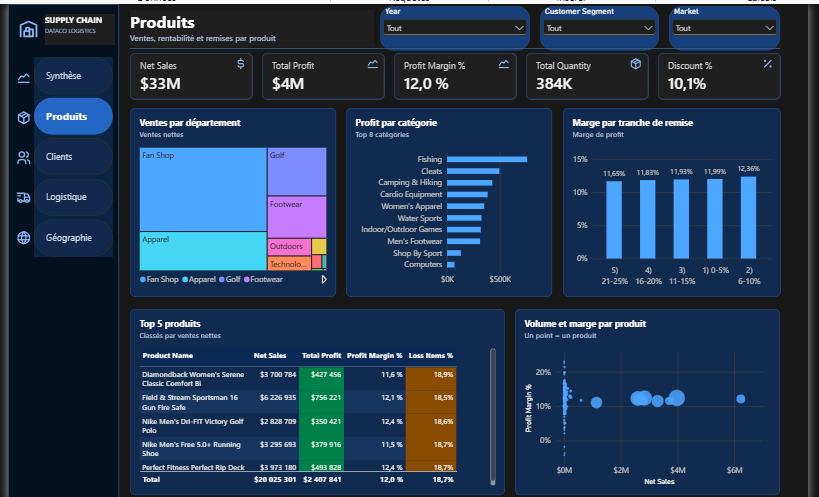

The page's visual inventory and layout, read from the dashboard file:
{"tool":"powerbi","page":{"name":"Produits","canvas":[1440,900],"ordinal":1},"visuals":[{"type":"shape","box":[0,0,200,900],"z":0},{"type":"clusteredBarChart","title":"Profit par catégorie","fields":{"Category":["Dim_Product.Category Name"],"Y":["Fact_OrderItems.Total Profit"]},"box":[609.2,188,371.2,340],"z":1000},{"type":"textbox","box":[66,18,126,56],"z":2000},{"type":"pageNavigator","box":[46,96,142,360],"z":3000},{"type":"image","box":[14,118,28,28],"z":4000},{"type":"image","box":[14,190,28,28],"z":4000},{"type":"image","box":[14,262,28,28],"z":4000},{"type":"image","box":[14,334,28,28],"z":4000},{"type":"image","box":[14,406,28,28],"z":4000},{"type":"textbox","box":[220,10,438.8,66],"z":5000},{"type":"slicer","title":"Marché","fields":{"Values":["Dim_Geography.Market"]},"box":[1189.8,4,200.2,80],"z":6000},{"type":"slicer","title":"Segment client","fields":{"Values":["Dim_Customer.Customer Segment"]},"box":[958,4,213.8,80],"z":7000},{"type":"slicer","title":"Année","fields":{"Values":["Dim_Date.Year"]},"box":[670,4,270,80],"z":8000},{"type":"cardVisual","fields":{"Data":["Fact_OrderItems.Total Quantity"]},"box":[932.1,88,220.5,84],"z":9000},{"type":"cardVisual","fields":{"Data":["Fact_OrderItems.Profit Margin %"]},"box":[694.8,88,220.5,84],"z":10000},{"type":"cardVisual","fields":{"Data":["Fact_OrderItems.Total Profit"]},"box":[457.4,88,220.5,84],"z":11000},{"type":"cardVisual","fields":{"Data":["Fact_OrderItems.Discount %"]},"box":[1169.5,88,220.5,84],"z":12000},{"type":"shape","box":[220,80,1170,1],"z":12050},{"type":"cardVisual","fields":{"Data":["Fact_OrderItems.Net Sales"]},"box":[220,88,220.5,84],"z":13000},{"type":"treemap","title":"Ventes par département","fields":{"Group":["Dim_Product.Department Name"],"Values":["Fact_OrderItems.Net Sales"]},"box":[220,188,371.2,340],"z":14000},{"type":"clusteredColumnChart","title":"Marge par tranche de remise","fields":{"Category":["Fact_OrderItems.Discount Band"],"Y":["Fact_OrderItems.Profit Margin %"]},"box":[998.5,188,391.5,340],"z":15000},{"type":"tableEx","title":"Top 5 produits","fields":{"Values":["Dim_Product.Product Name","Fact_OrderItems.Net Sales","Fact_OrderItems.Total Profit","Fact_OrderItems.Profit Margin %","Fact_OrderItems.Loss Items %"]},"box":[220,549.8,675,334.6],"z":16000},{"type":"scatterChart","title":"Volume et marge par produit","fields":{"Category":["Dim_Product.Product Name"],"Size":["Fact_OrderItems.Total Quantity"],"X":["Fact_OrderItems.Net Sales"],"Y":["Fact_OrderItems.Profit Margin %"]},"box":[913,549.8,477,334.6],"z":17000},{"type":"image","box":[18,25,38,38],"z":25000},{"type":"image","box":[404.5,96,27,24],"z":25001},{"type":"image","box":[641.9,96,27,24],"z":25001},{"type":"image","box":[879.2,96,27,24],"z":25001},{"type":"image","box":[1116.6,96,27,24],"z":25001},{"type":"image","box":[1354,96,27,24],"z":25001}]}

Visuals, with their boxes on the page's 1440x900 design canvas (x1, y1, x2, y2). These are canvas units, not pixel positions in the 819x497 screenshot, which may show the page scaled, cropped or inside an application window:
shape: [left=0, top=0, right=200, bottom=900]
"Profit par catégorie" clusteredBarChart: [left=609, top=188, right=980, bottom=528]
textbox: [left=66, top=18, right=192, bottom=74]
pageNavigator: [left=46, top=96, right=188, bottom=456]
image: [left=14, top=118, right=42, bottom=146]
image: [left=14, top=190, right=42, bottom=218]
image: [left=14, top=262, right=42, bottom=290]
image: [left=14, top=334, right=42, bottom=362]
image: [left=14, top=406, right=42, bottom=434]
textbox: [left=220, top=10, right=659, bottom=76]
"Marché" slicer: [left=1190, top=4, right=1390, bottom=84]
"Segment client" slicer: [left=958, top=4, right=1172, bottom=84]
"Année" slicer: [left=670, top=4, right=940, bottom=84]
cardVisual - Fact_OrderItems.Total Quantity: [left=932, top=88, right=1153, bottom=172]
cardVisual - Fact_OrderItems.Profit Margin %: [left=695, top=88, right=915, bottom=172]
cardVisual - Fact_OrderItems.Total Profit: [left=457, top=88, right=678, bottom=172]
cardVisual - Fact_OrderItems.Discount %: [left=1170, top=88, right=1390, bottom=172]
shape: [left=220, top=80, right=1390, bottom=81]
cardVisual - Fact_OrderItems.Net Sales: [left=220, top=88, right=440, bottom=172]
"Ventes par département" treemap: [left=220, top=188, right=591, bottom=528]
"Marge par tranche de remise" clusteredColumnChart: [left=998, top=188, right=1390, bottom=528]
"Top 5 produits" tableEx: [left=220, top=550, right=895, bottom=884]
"Volume et marge par produit" scatterChart: [left=913, top=550, right=1390, bottom=884]
image: [left=18, top=25, right=56, bottom=63]
image: [left=404, top=96, right=432, bottom=120]
image: [left=642, top=96, right=669, bottom=120]
image: [left=879, top=96, right=906, bottom=120]
image: [left=1117, top=96, right=1144, bottom=120]
image: [left=1354, top=96, right=1381, bottom=120]
